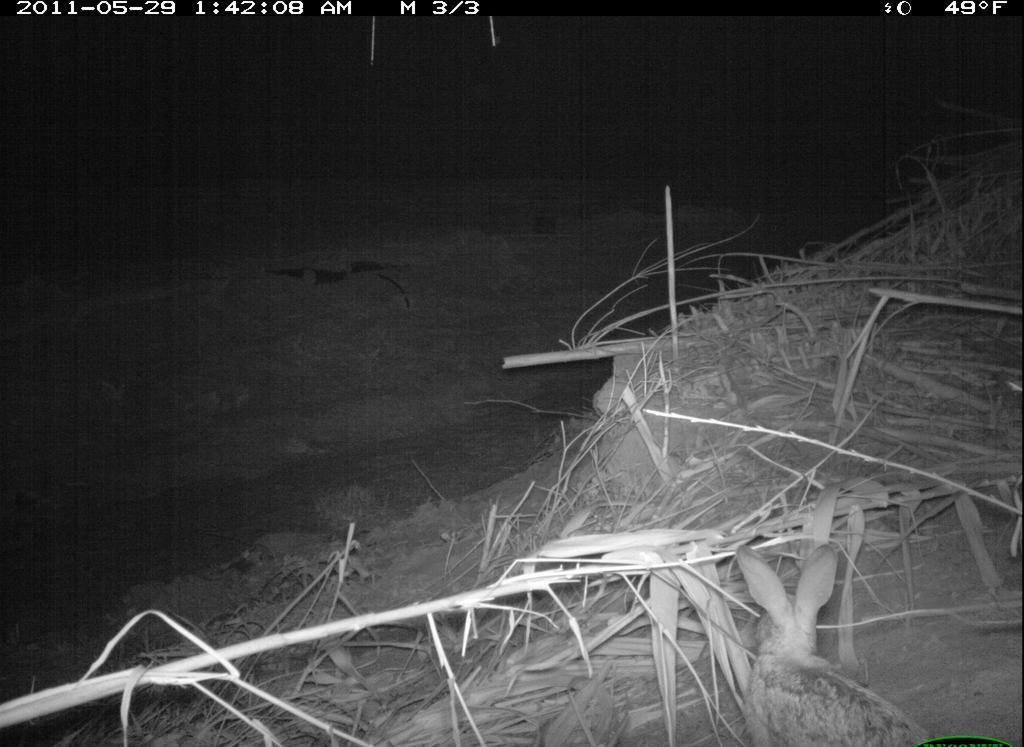rabbit: (712, 534, 940, 747)
